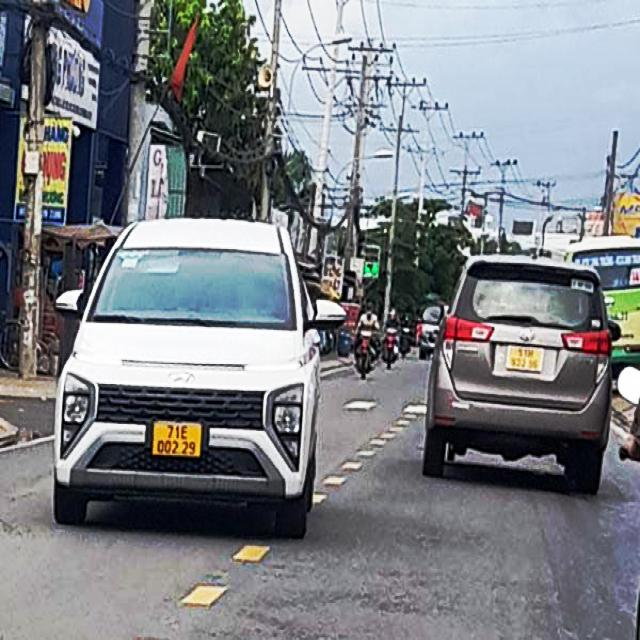license_plate: (153, 421, 204, 460)
